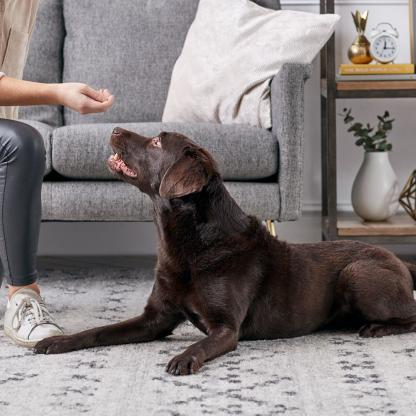dog: (28, 127, 416, 376)
